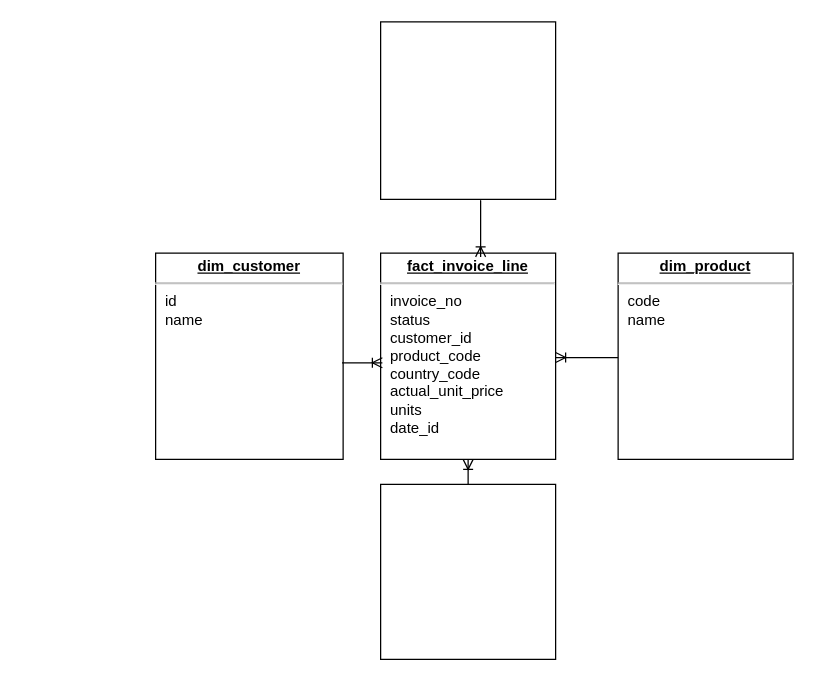
Image size: 815x681. Some labels were removed from this diagram. Here are the shapes that lost their labels. From the top down, the centre of each, then its label:
At (467,110): "dim_date id cal_date year month day hour".
At (467,571): "dim_country code name".
